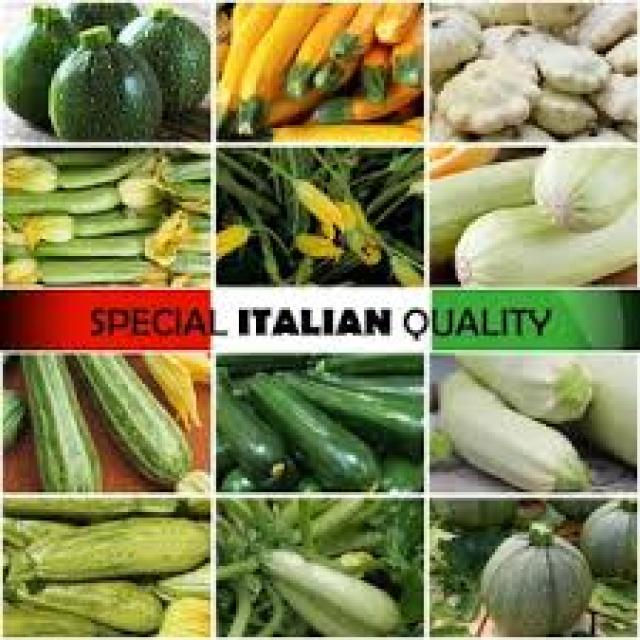Zucchini: (22, 356, 96, 494)
